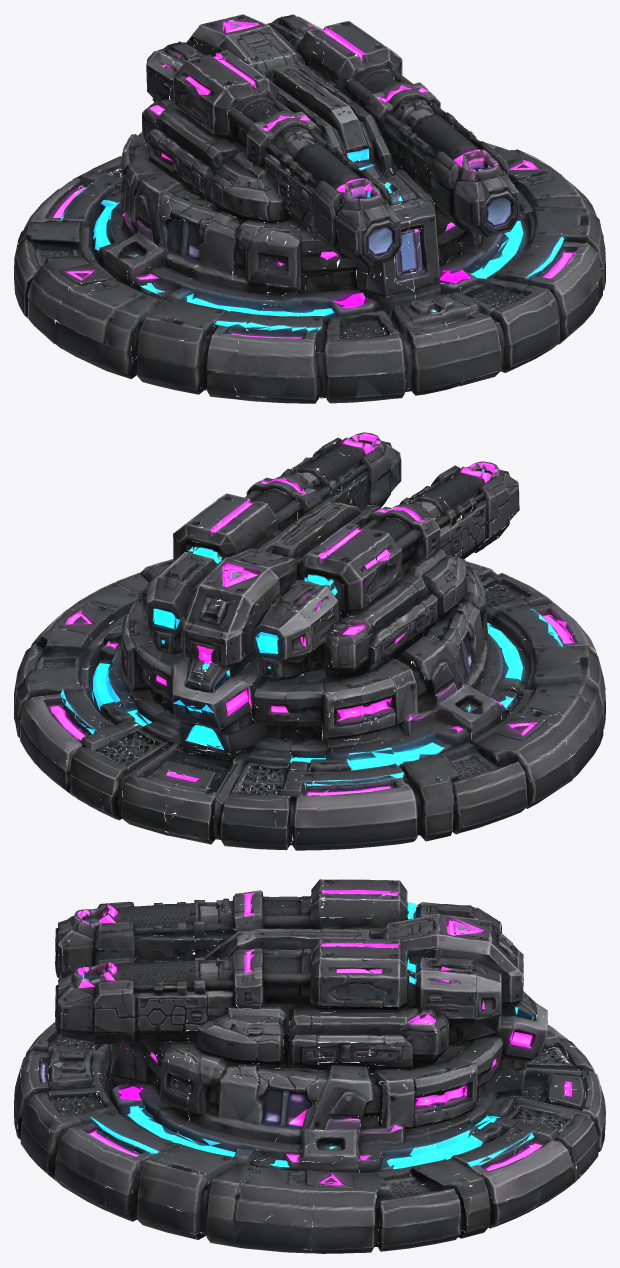
Rendered from warrior-1-tier-3.glb.
3 views of the same model, one above another, from view 1: azimuth 30°, elevation 25°; view 2: azimuth 150°, elevation 25°; view 3: azimuth 270°, elevation 25° (orthographic).
Parts seen in each view (by area): view 1: fixed-platform, moving-assembly; view 2: fixed-platform, moving-assembly; view 3: moving-assembly, fixed-platform.
Part boxes in pixels (left/top/right/bottom): fixed-platform: left=14, top=127, right=605, bottom=403; moving-assembly: left=121, top=14, right=519, bottom=287; fixed-platform: left=14, top=546, right=605, bottom=850; moving-assembly: left=121, top=432, right=519, bottom=729; moving-assembly: left=55, top=879, right=547, bottom=1130; fixed-platform: left=14, top=976, right=605, bottom=1253.
Bounding box in the file's own units: 0.8339 × 0.3415 × 0.8303.
3 materials, 3 textured.
